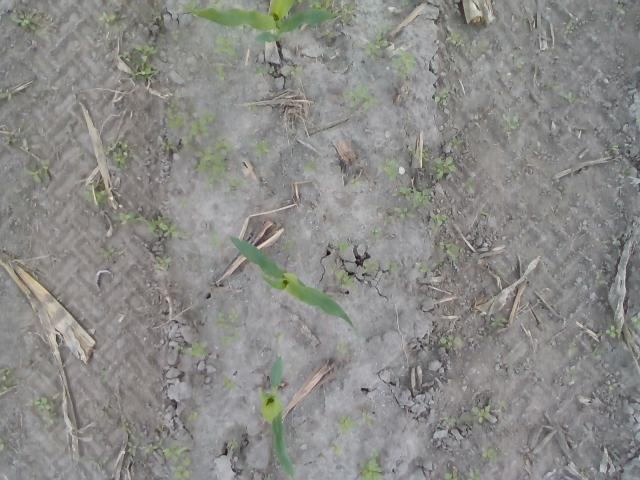Maize: (228, 230, 360, 336), (178, 0, 336, 45), (257, 355, 296, 480)
Weeds: (161, 94, 221, 151), (193, 136, 242, 192), (115, 43, 161, 80), (392, 184, 433, 220), (342, 84, 382, 114), (162, 442, 192, 480), (216, 304, 242, 346), (389, 46, 419, 82), (471, 398, 508, 426), (143, 215, 184, 240), (352, 449, 385, 480), (6, 5, 41, 33), (28, 395, 58, 427), (364, 30, 391, 64), (102, 135, 128, 169), (328, 260, 356, 288), (363, 257, 402, 274), (436, 238, 464, 261), (213, 34, 241, 56), (414, 255, 446, 274), (80, 188, 106, 210), (108, 210, 146, 225), (377, 158, 399, 182), (28, 158, 48, 184), (434, 155, 458, 176), (190, 336, 210, 360), (0, 366, 17, 394), (502, 112, 520, 138), (334, 3, 354, 26), (151, 255, 176, 273), (98, 12, 124, 28), (126, 432, 143, 456), (298, 0, 336, 10), (253, 137, 273, 155), (184, 406, 203, 424), (222, 373, 240, 392), (439, 334, 465, 347), (434, 87, 451, 106), (480, 446, 497, 465), (448, 31, 466, 48), (144, 438, 163, 454), (361, 410, 375, 431), (337, 414, 353, 432), (302, 159, 320, 175), (628, 307, 640, 330), (334, 238, 352, 253), (215, 60, 227, 82), (208, 232, 224, 248), (441, 414, 458, 429), (605, 323, 622, 338), (330, 441, 345, 457), (442, 467, 460, 480), (288, 64, 304, 78), (593, 270, 605, 288), (564, 14, 576, 32), (228, 432, 240, 450), (370, 223, 383, 239), (101, 244, 114, 260), (465, 468, 482, 480), (448, 138, 465, 150), (280, 238, 297, 250), (542, 80, 560, 91), (566, 366, 576, 384), (431, 214, 449, 224), (564, 90, 576, 105), (207, 0, 224, 10), (606, 379, 619, 392), (255, 64, 268, 77), (0, 86, 12, 100), (614, 2, 626, 16), (608, 142, 622, 154), (493, 314, 505, 327), (176, 343, 190, 354), (318, 30, 334, 39), (156, 31, 168, 43), (464, 177, 474, 191), (479, 209, 491, 220), (246, 100, 257, 111), (407, 144, 417, 156), (170, 28, 180, 40), (568, 342, 578, 354), (421, 148, 429, 161), (0, 436, 8, 449), (382, 215, 392, 225), (178, 198, 188, 208), (350, 178, 360, 188), (5, 136, 16, 145), (239, 24, 251, 32), (190, 0, 200, 9), (274, 332, 286, 338), (632, 116, 640, 124), (402, 0, 412, 6)
